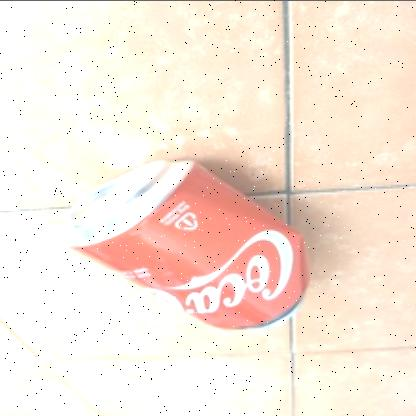Can: (58, 160, 310, 330)
